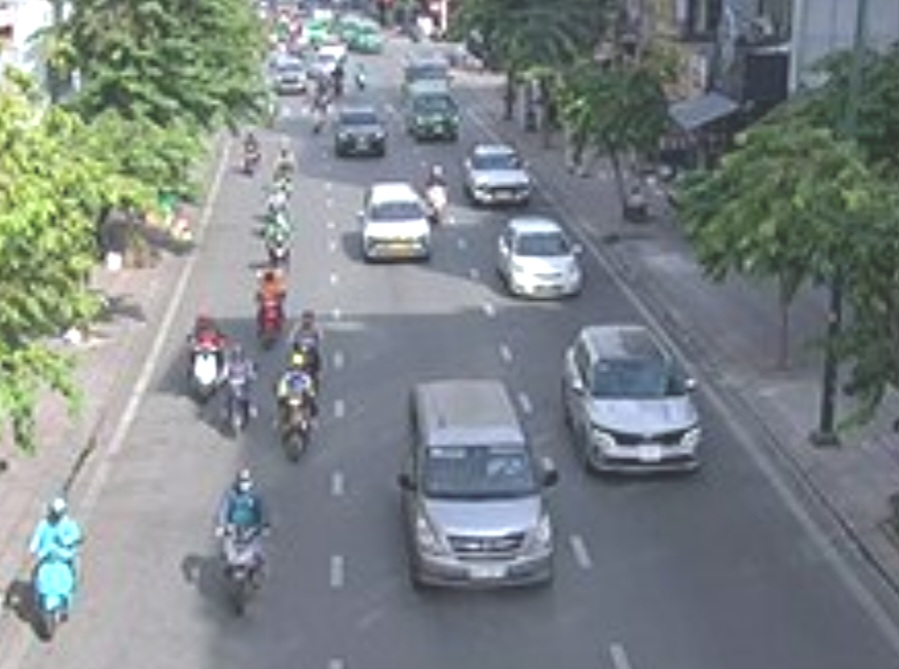car: (404, 381, 557, 597), (558, 325, 709, 481), (492, 217, 587, 300), (359, 179, 434, 263), (463, 142, 533, 209), (332, 107, 389, 159), (404, 93, 464, 141)
